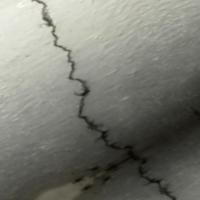crack: (30, 0, 170, 199)
